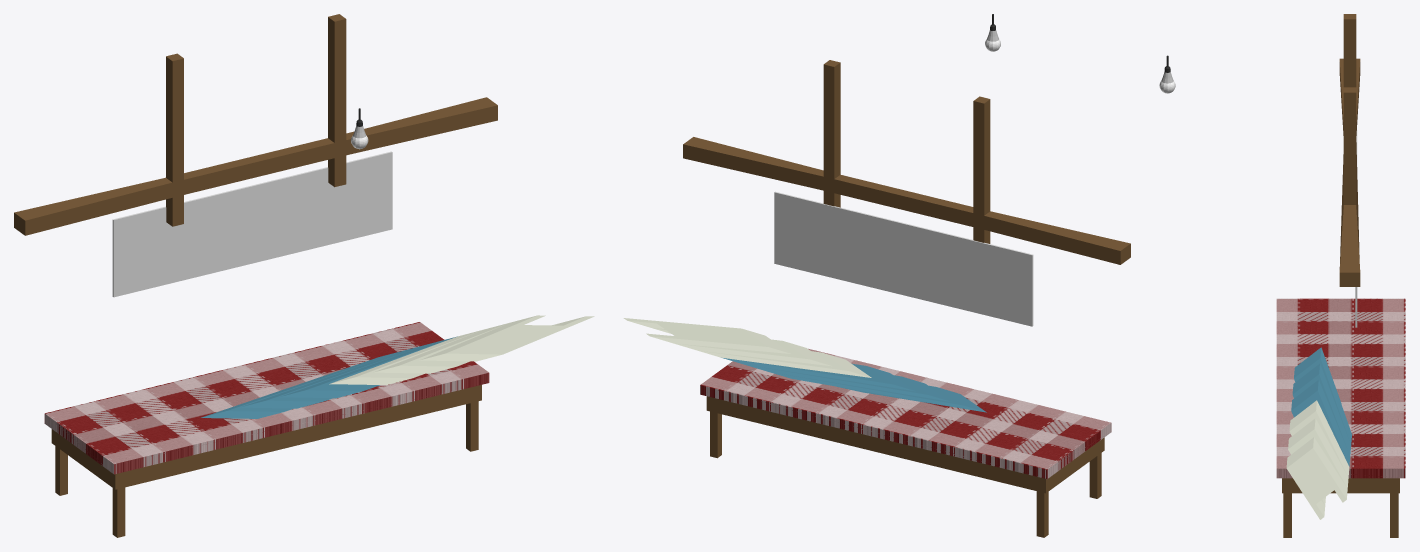
Rendered from tindahanngkakanin.fbx.
3 views of the same model, side by side, from view 1: azimuth 30°, elevation 25°; view 2: azimuth 150°, elevation 25°; view 3: azimuth 270°, elevation 25° (orthographic). The views are drawn at different scales.
Visible parts, largest first — view 1: tindahanngkakanin, stallname, wood, plastic, Cube.622; view 2: tindahanngkakanin, stallname, wood, plastic, Cube.622; view 3: tindahanngkakanin, plastic, wood, Cube.622, light.
Part boxes in pixels (box(x1,y1,x2,y2)): tindahanngkakanin: box(44, 322, 489, 489); stallname: box(112, 151, 392, 297); wood: box(14, 14, 497, 235); plastic: box(201, 315, 594, 418); Cube.622: box(55, 401, 478, 537); tindahanngkakanin: box(700, 348, 1111, 493); stallname: box(774, 191, 1033, 326); wood: box(683, 60, 1130, 264); plastic: box(623, 318, 986, 412); Cube.622: box(710, 411, 1101, 537); tindahanngkakanin: box(1276, 298, 1405, 493); plastic: box(1286, 347, 1351, 519); wood: box(1339, 14, 1360, 286); Cube.622: box(1283, 493, 1398, 537); light: box(1159, 55, 1175, 93).
Size of the model in its own units: 8.08 by 5.95 by 3.32.
